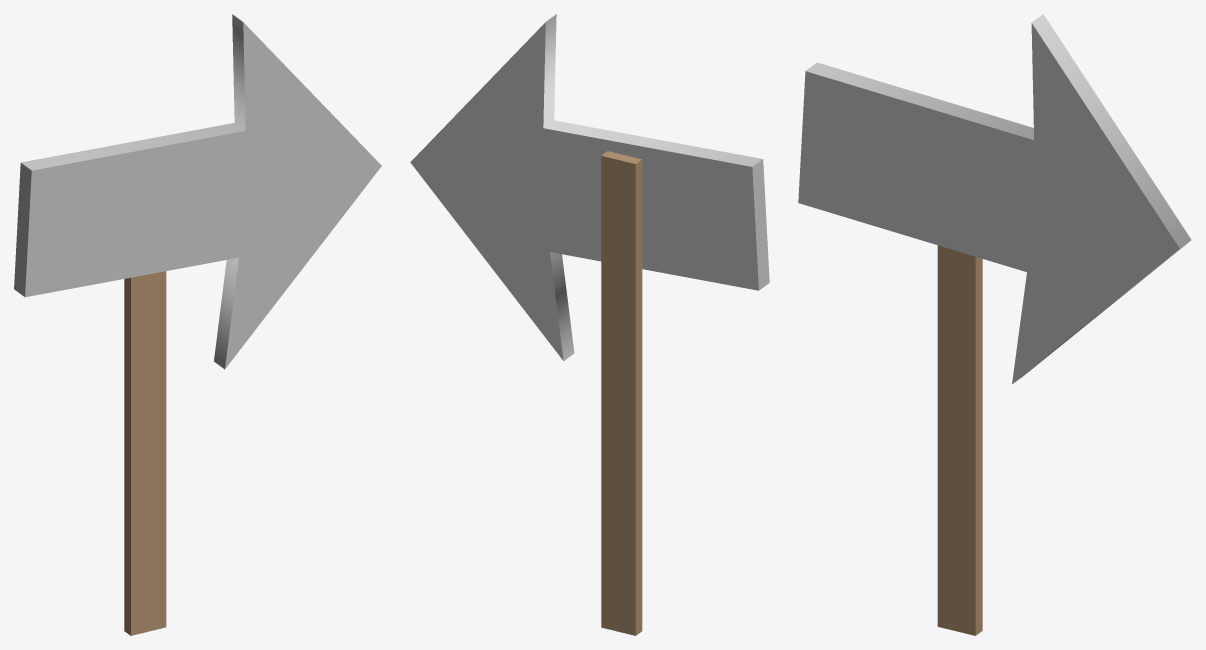
File: Park_Pijl.fbx
The picture shows the model from 3 angles, left to right: view 1: azimuth 30°, elevation 25°; view 2: azimuth 150°, elevation 25°; view 3: azimuth 330°, elevation 25°; orthographic projection. The views are drawn at different scales.
Visible parts, largest first — view 1: pCube16; view 2: pCube16; view 3: pCube16.
Boxes of the visible parts, bbox=[...] form: pCube16: bbox=[14, 14, 381, 635]; pCube16: bbox=[410, 14, 769, 635]; pCube16: bbox=[798, 14, 1191, 635].
Size of the model in its own units: 5.3 by 8.5 by 0.4881.
